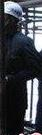gloves: (0, 14, 13, 48), (0, 14, 9, 31)
hard-hat: (0, 32, 21, 64)
ppe-suit: (0, 0, 21, 78)
